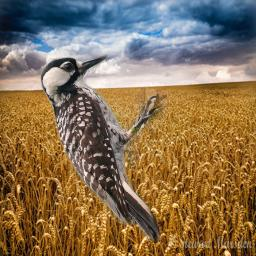Woodpecker: (40, 54, 167, 243)
